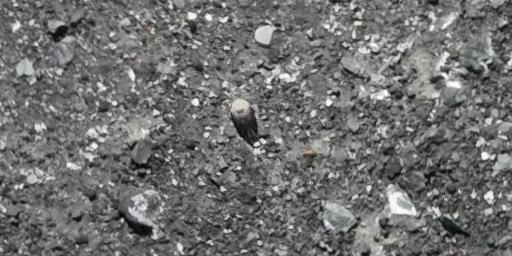skua: (221, 96, 266, 149)
